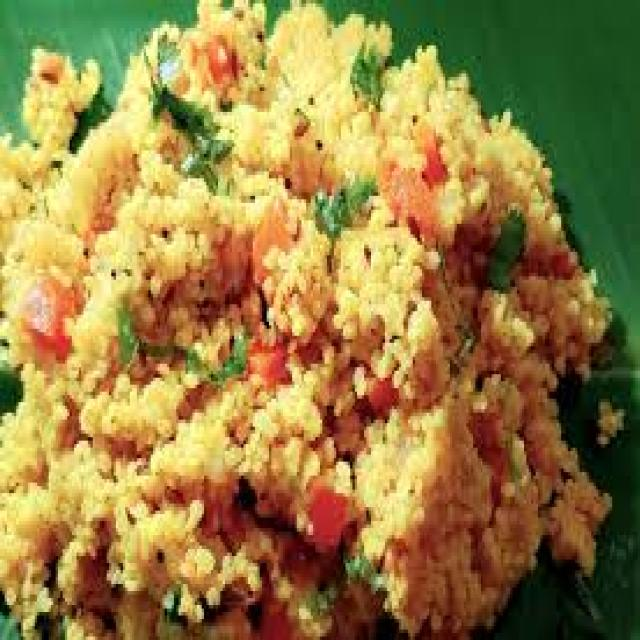UPMA: (0, 0, 624, 637)
